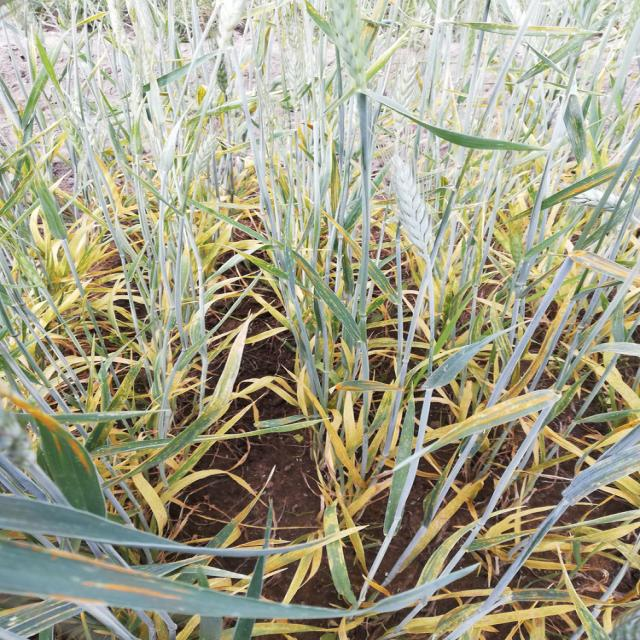wheat-yellowrust: (299, 383, 366, 487), (456, 390, 556, 439), (407, 488, 467, 563), (160, 470, 253, 496), (480, 603, 575, 627), (131, 474, 166, 532), (253, 623, 325, 636), (175, 616, 200, 639)
